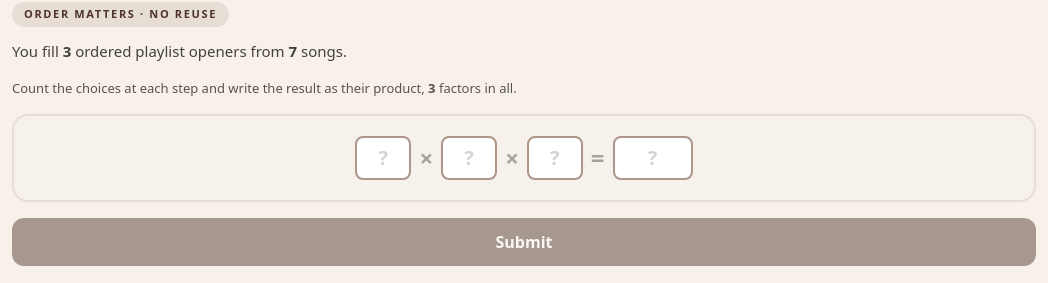
Test: quiz templates: submitting answers › permutation descending-product (style 2) scores true with the right factors
Type "7" into the 1st field with placeholder "?".
click(383, 158); type("7")  # box top-left (355, 136), bottom-right (411, 180)
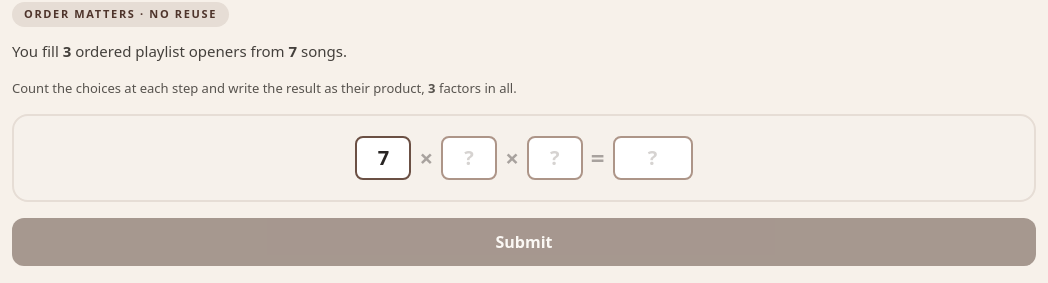
Type "6" into the 1st field with placeholder "?".
click(469, 158); type("6")  # box top-left (441, 136), bottom-right (497, 180)
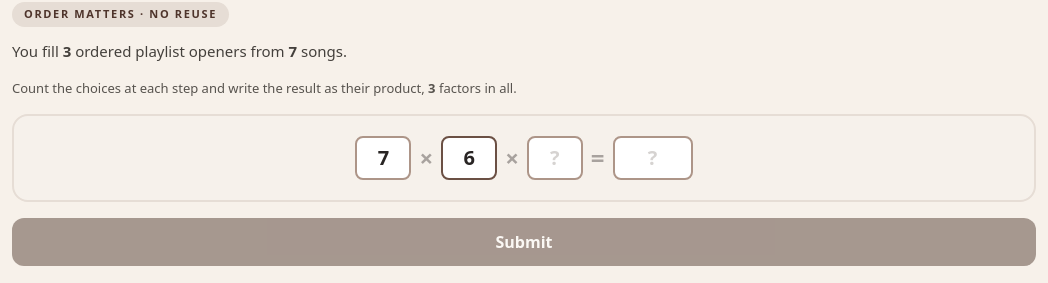
Type "5" into the 1st field with placeholder "?".
click(555, 158); type("5")  # box top-left (527, 136), bottom-right (583, 180)
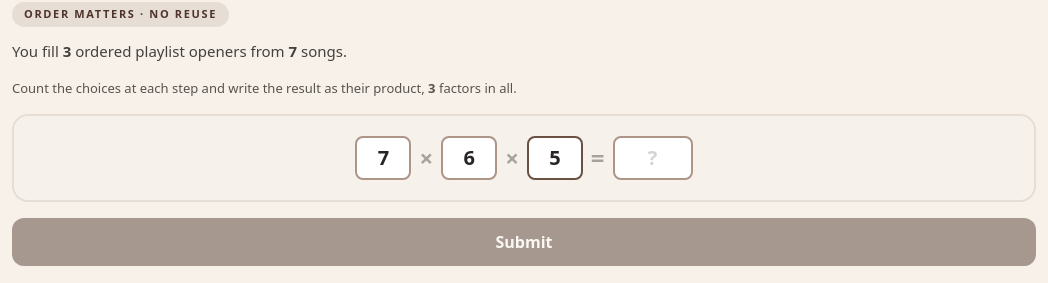
Type "210" into the field named "product result".
click(653, 158); type("210")  # box top-left (613, 136), bottom-right (693, 180)
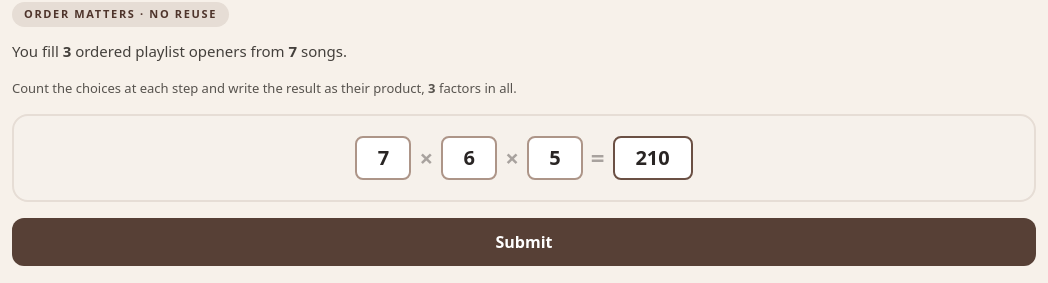
Click the button "Submit".
click(524, 242)  # box top-left (12, 218), bottom-right (1036, 266)
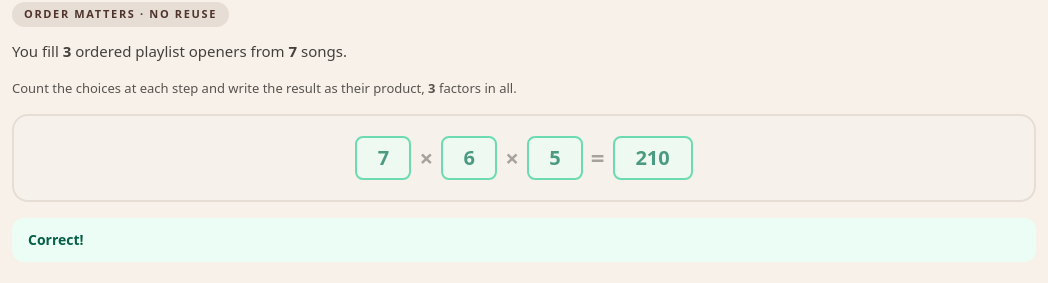
Expected: the field named "product result" is disabled, top-left (613, 136), bottom-right (693, 180)
